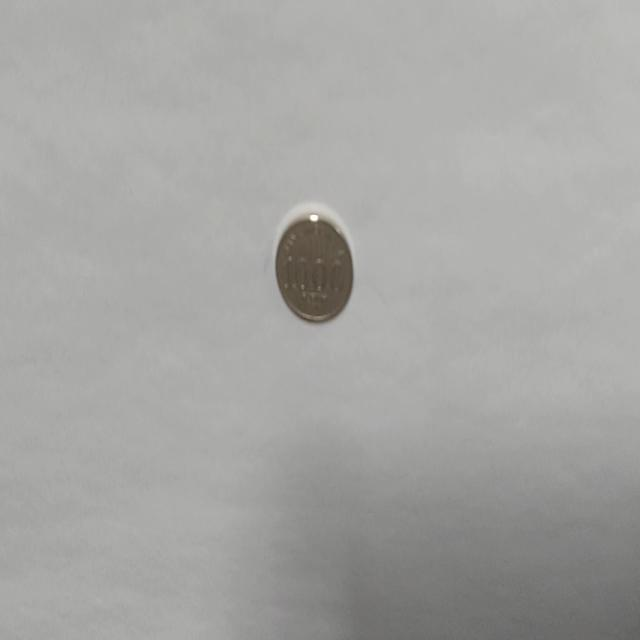seribu rupiah koin: (273, 202, 355, 324)
